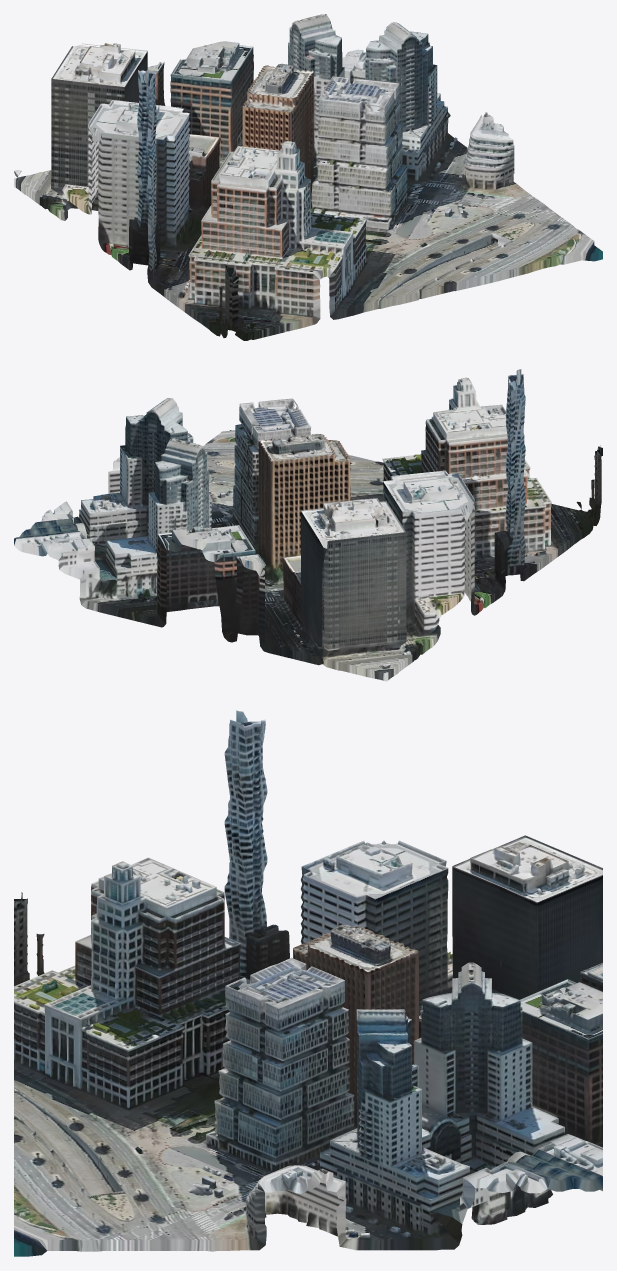
File: z17-20974-50654-h0-yup-uvflip-v3-world.glb
The picture shows the model from 3 angles, top to bottom: view 1: azimuth 30°, elevation 25°; view 2: azimuth 150°, elevation 25°; view 3: azimuth 270°, elevation 25°; orthographic projection. The views are drawn at different scales.
Bounding box in the file's own units: 241 × 136 × 243.
1 material, 1 textured.
